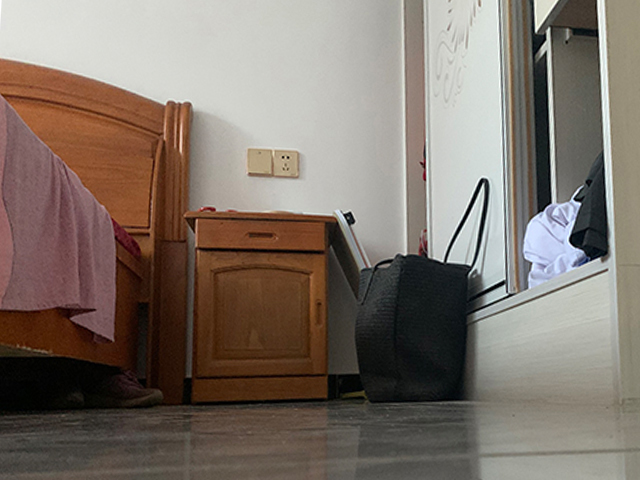bed: (1, 57, 193, 409)
cabinet: (399, 1, 640, 407), (183, 208, 338, 403)
